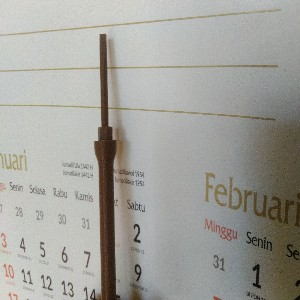obeng: (92, 32, 118, 300)
